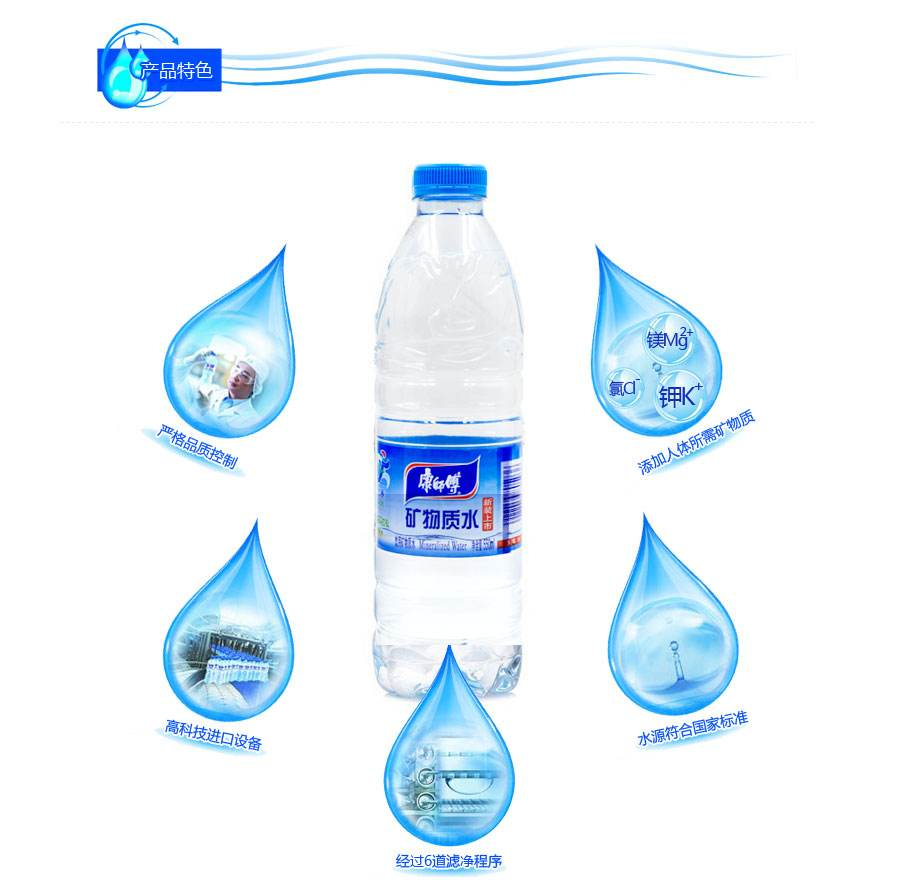amwater: (358, 142, 566, 716)
